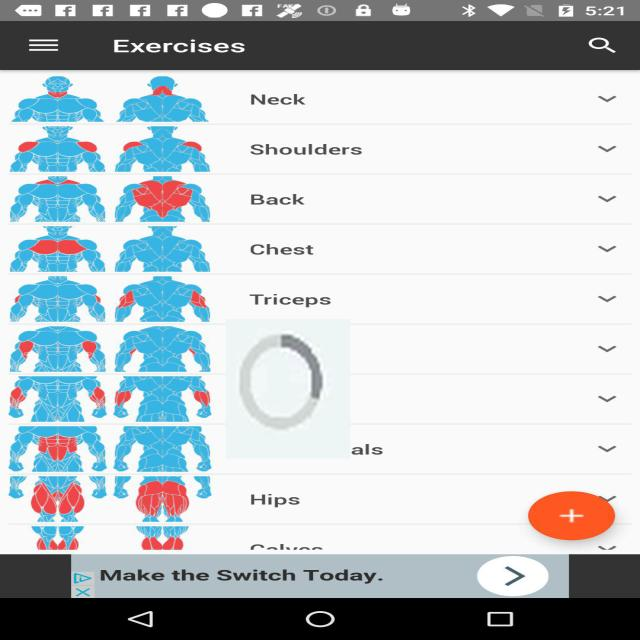misdirection: (226, 319, 350, 459)
